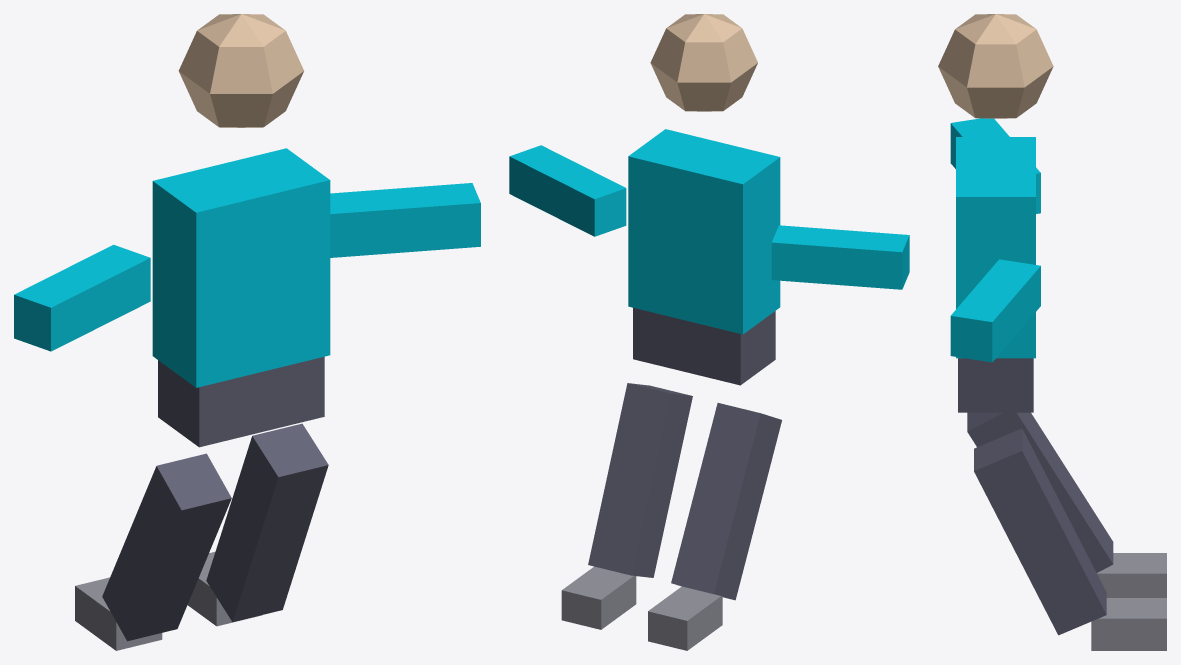
File: espectador_saltando.glb
3 renders of one model, left to right at view 1: azimuth 30°, elevation 25°; view 2: azimuth 150°, elevation 25°; view 3: azimuth 270°, elevation 25°, orthographic. The views are drawn at different scales.
Parts seen in each view (by area): view 1: espectador_saltando; view 2: espectador_saltando; view 3: espectador_saltando.
Boxes of the visible parts, left/top/right/bottom form: espectador_saltando: left=14, top=14, right=480, bottom=650; espectador_saltando: left=509, top=14, right=909, bottom=650; espectador_saltando: left=938, top=14, right=1166, bottom=650.
Size of the model in its own units: 1.09 by 1.5 by 0.515.
